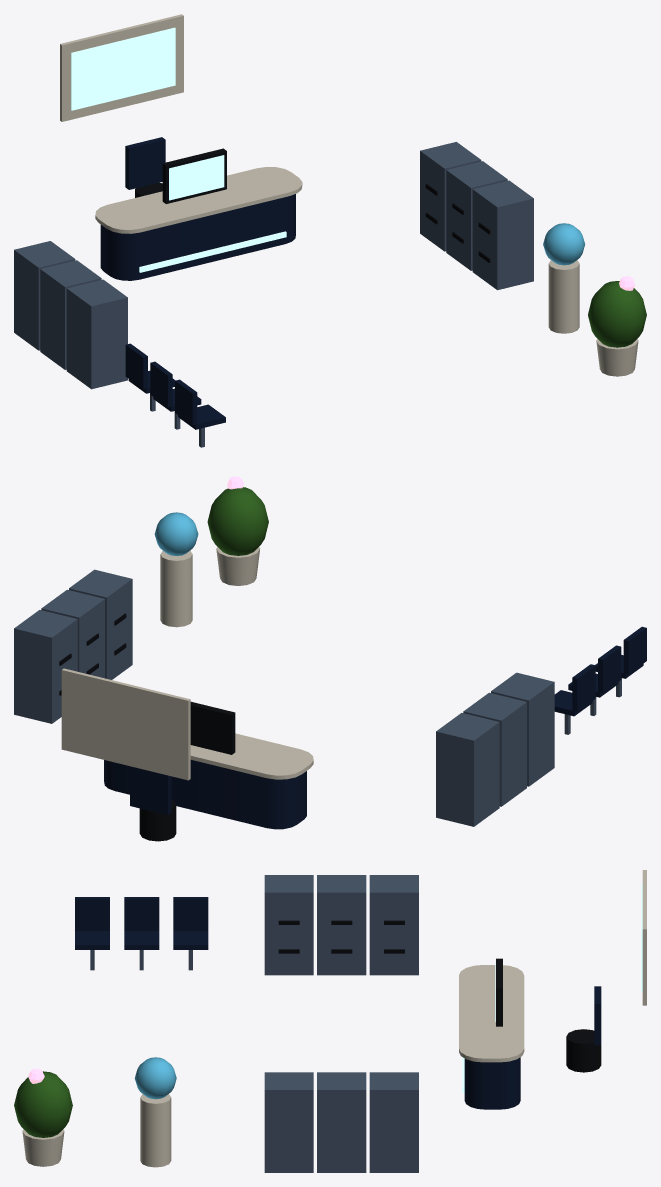
File: fit_office_2.glb
The picture shows the model from 3 angles, top to bottom: view 1: azimuth 30°, elevation 25°; view 2: azimuth 150°, elevation 25°; view 3: azimuth 270°, elevation 25°; orthographic projection. The views are drawn at different scales.
Visible parts, largest first — view 1: fit_office_2; view 2: fit_office_2; view 3: fit_office_2.
Boxes of the visible parts, x1,y1,x2,y2 form: fit_office_2: [14, 14, 646, 447]; fit_office_2: [14, 476, 646, 841]; fit_office_2: [14, 870, 646, 1172].
Bounding box in the file's own units: 7.26 × 2.6 × 9.02.
